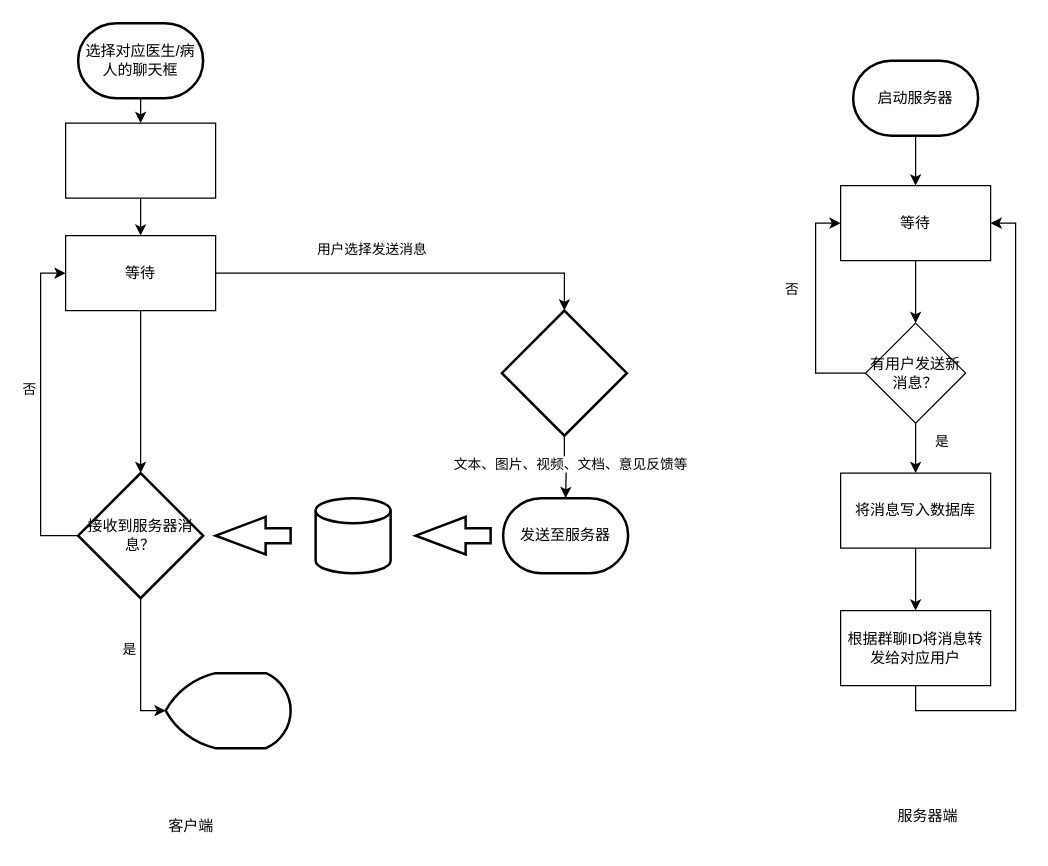
This 1048x866 diagram has some shape labels left out. Each missing label, with the centre of its shape:
"信息类型？" belongs at (564,372).
"数据库" belongs at (352,535).
"显示消息" belongs at (227,710).
"进入聊天界面" belongs at (140,160).
